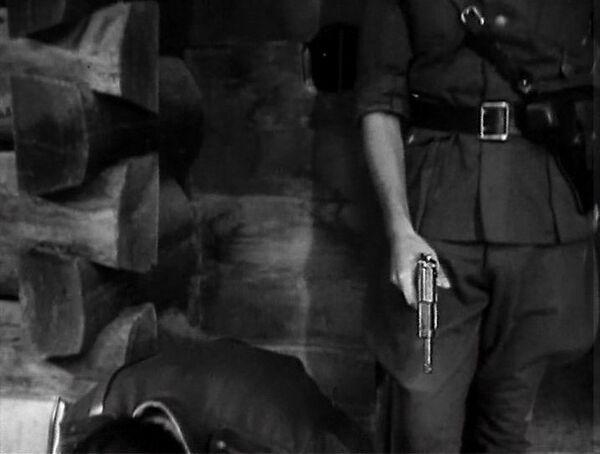Gun: (415, 254, 440, 376)
